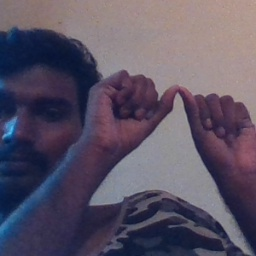A: (121, 66, 239, 153)
